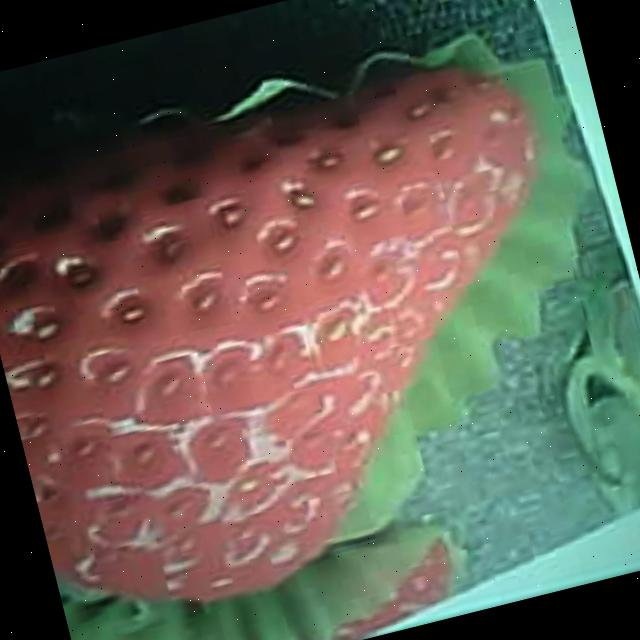strawberry: (0, 40, 622, 639)
